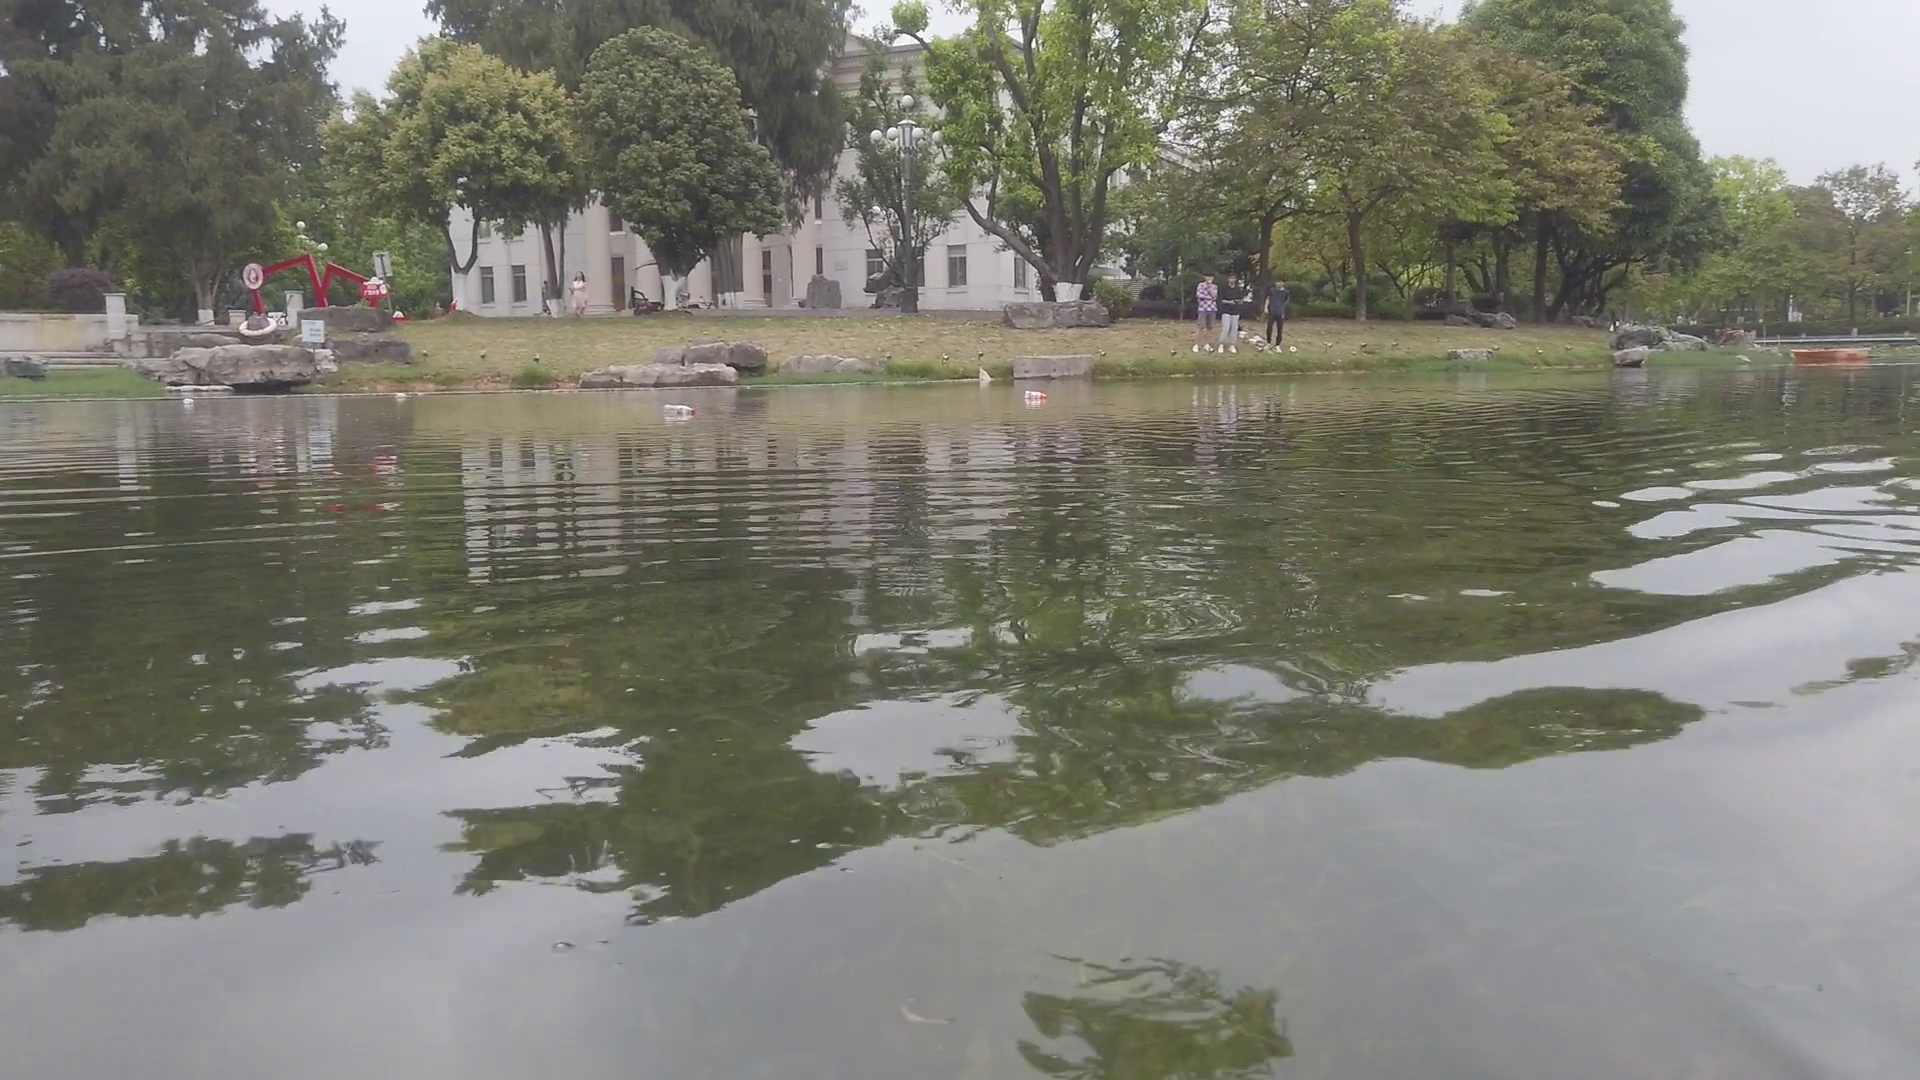bottle: (663, 404, 698, 415), (1023, 390, 1047, 400)
